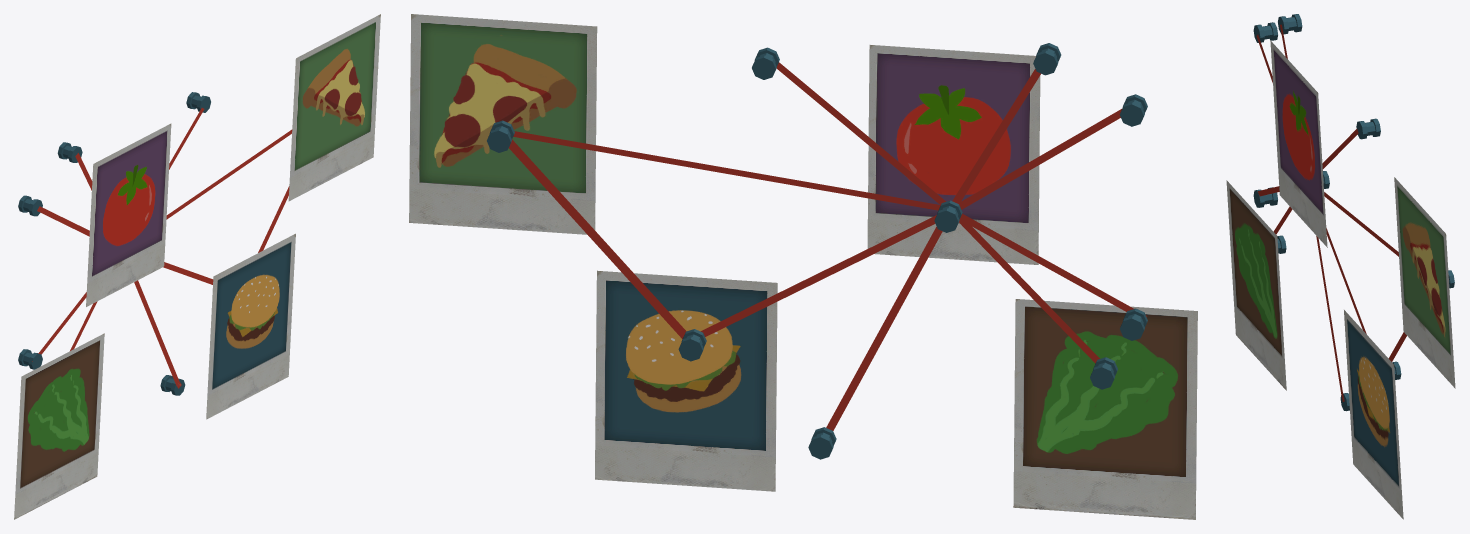
File: MurderBoard.fbx
3 renders of one model, left to right at view 1: azimuth 30°, elevation 25°; view 2: azimuth 150°, elevation 25°; view 3: azimuth 270°, elevation 25°, orthographic. The views are drawn at different scales.
Visible parts, largest first — view 1: MurderBoard; view 2: MurderBoard; view 3: MurderBoard.
Part boxes in pixels (x1,y1,x2,y2): MurderBoard: (14, 14, 380, 519); MurderBoard: (409, 14, 1197, 519); MurderBoard: (1226, 14, 1455, 519).
Size of the model in its own units: 2.66 by 1.84 by 1.06.
Materials: 1 (1 with a texture image).
